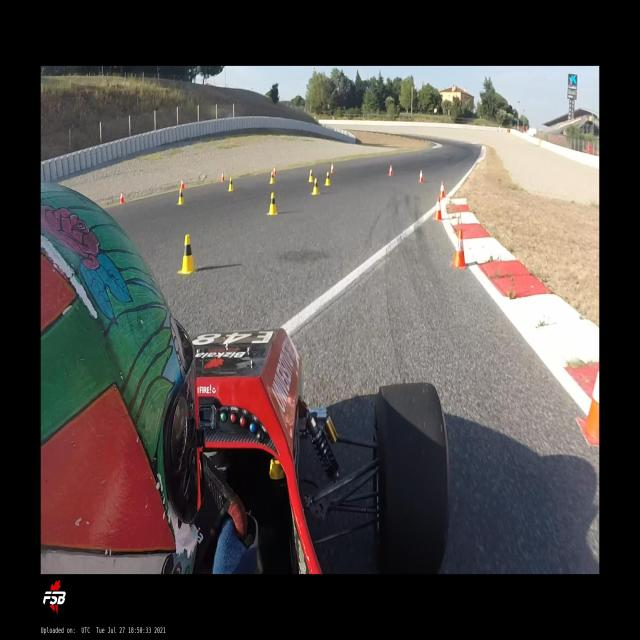orange_cone: (577, 370, 599, 446), (451, 229, 468, 268), (433, 197, 442, 220), (440, 181, 446, 198), (418, 170, 424, 182), (120, 190, 125, 203), (389, 164, 393, 177), (220, 171, 224, 182), (273, 166, 277, 176), (331, 163, 334, 174), (182, 178, 184, 190)
yellow_cone: (178, 234, 196, 274), (268, 192, 277, 215), (311, 178, 320, 194), (177, 188, 184, 205), (324, 172, 331, 186), (228, 176, 234, 192), (308, 169, 314, 182), (268, 171, 274, 183)
